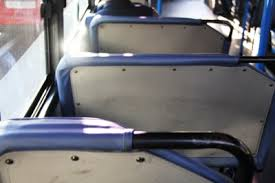seat: (7, 107, 253, 181)
